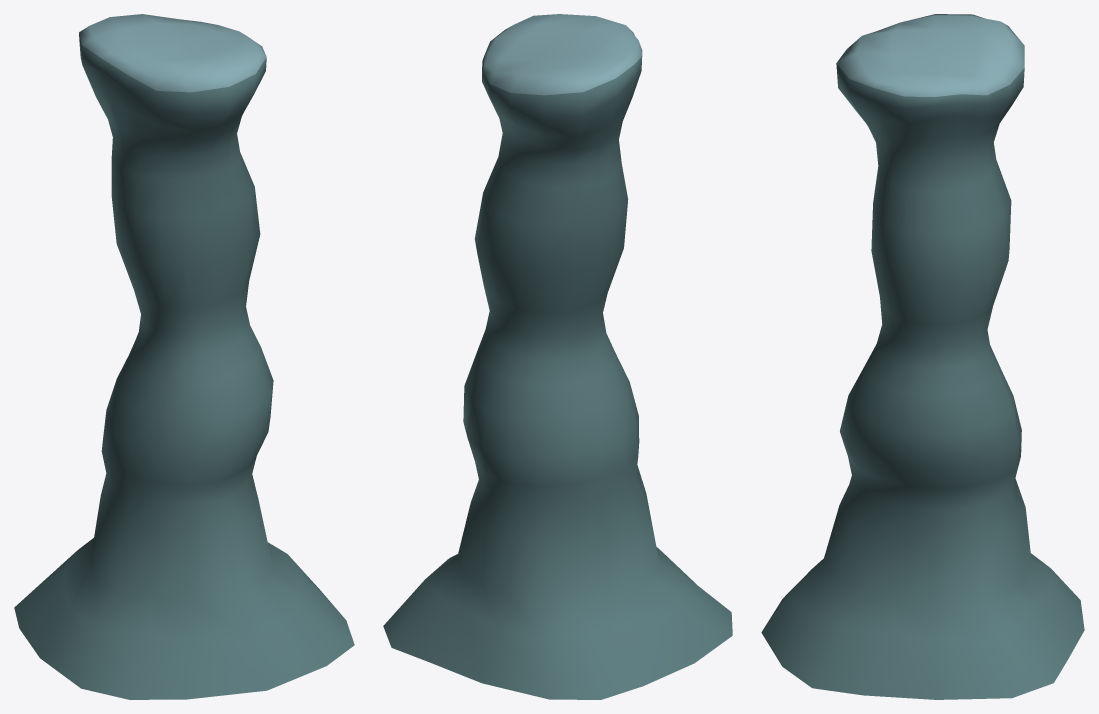
The model's file is searock2.fbx.
3 views of the same model, side by side, from view 1: azimuth 30°, elevation 25°; view 2: azimuth 150°, elevation 25°; view 3: azimuth 270°, elevation 25° (orthographic).
Parts seen in each view (by area): view 1: searock2; view 2: searock2; view 3: searock2.
Part boxes in pixels (x1,y1,x2,y2): searock2: [14, 14, 354, 699]; searock2: [383, 14, 732, 699]; searock2: [761, 14, 1084, 699].
Bounding box in the file's own units: 1.95 × 1.96 × 3.92.
